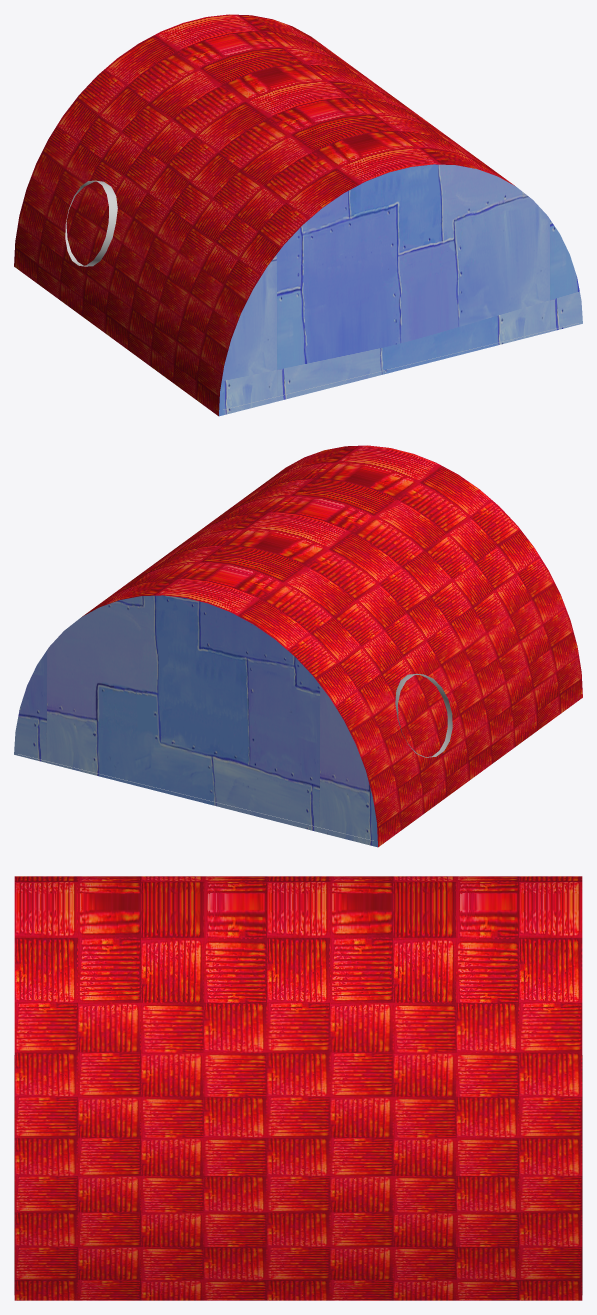
File: habitacion.obj
3 views of the same model, one above another, from view 1: azimuth 30°, elevation 25°; view 2: azimuth 150°, elevation 25°; view 3: azimuth 270°, elevation 25° (orthographic). The views are drawn at different scales.
Parts seen in each view (by area): view 1: pCylinder1, group2_pasted__Window_pasted__polySurface2; view 2: pCylinder1, group2_pasted__Window_pasted__polySurface2; view 3: pCylinder1.
Part boxes in pixels (bbox=[...]): pCylinder1: bbox=[14, 14, 582, 416]; group2_pasted__Window_pasted__polySurface2: bbox=[65, 180, 117, 266]; pCylinder1: bbox=[14, 445, 582, 847]; group2_pasted__Window_pasted__polySurface2: bbox=[395, 673, 452, 757]; pCylinder1: bbox=[14, 876, 582, 1300].
Size of the model in its own units: 24.51 by 13 by 23.89.
